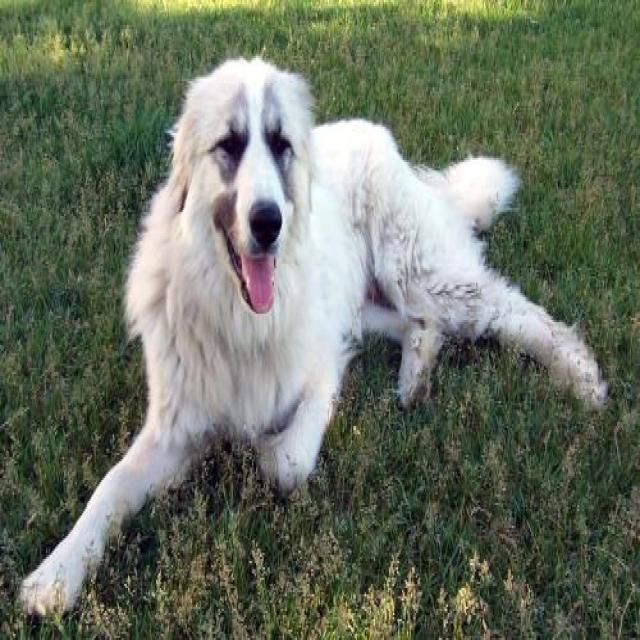Dogs: (17, 52, 609, 621)
